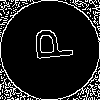P: (25, 25, 74, 64)
